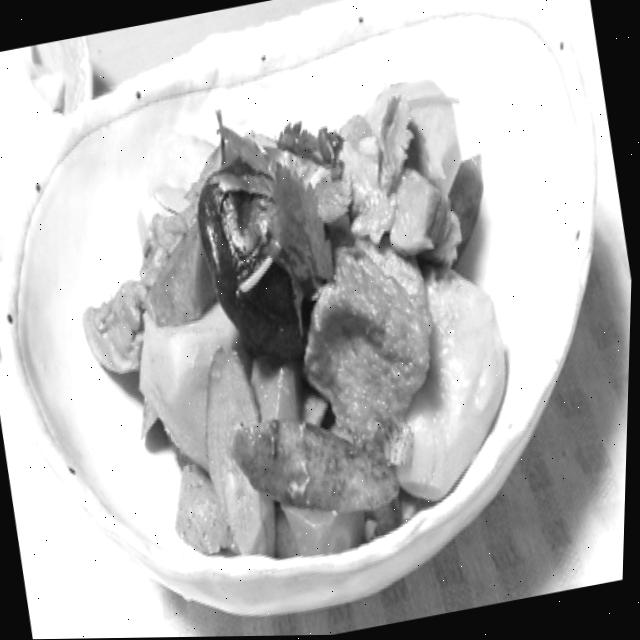鸡肉料理 含炸鸡: (37, 24, 576, 606)
